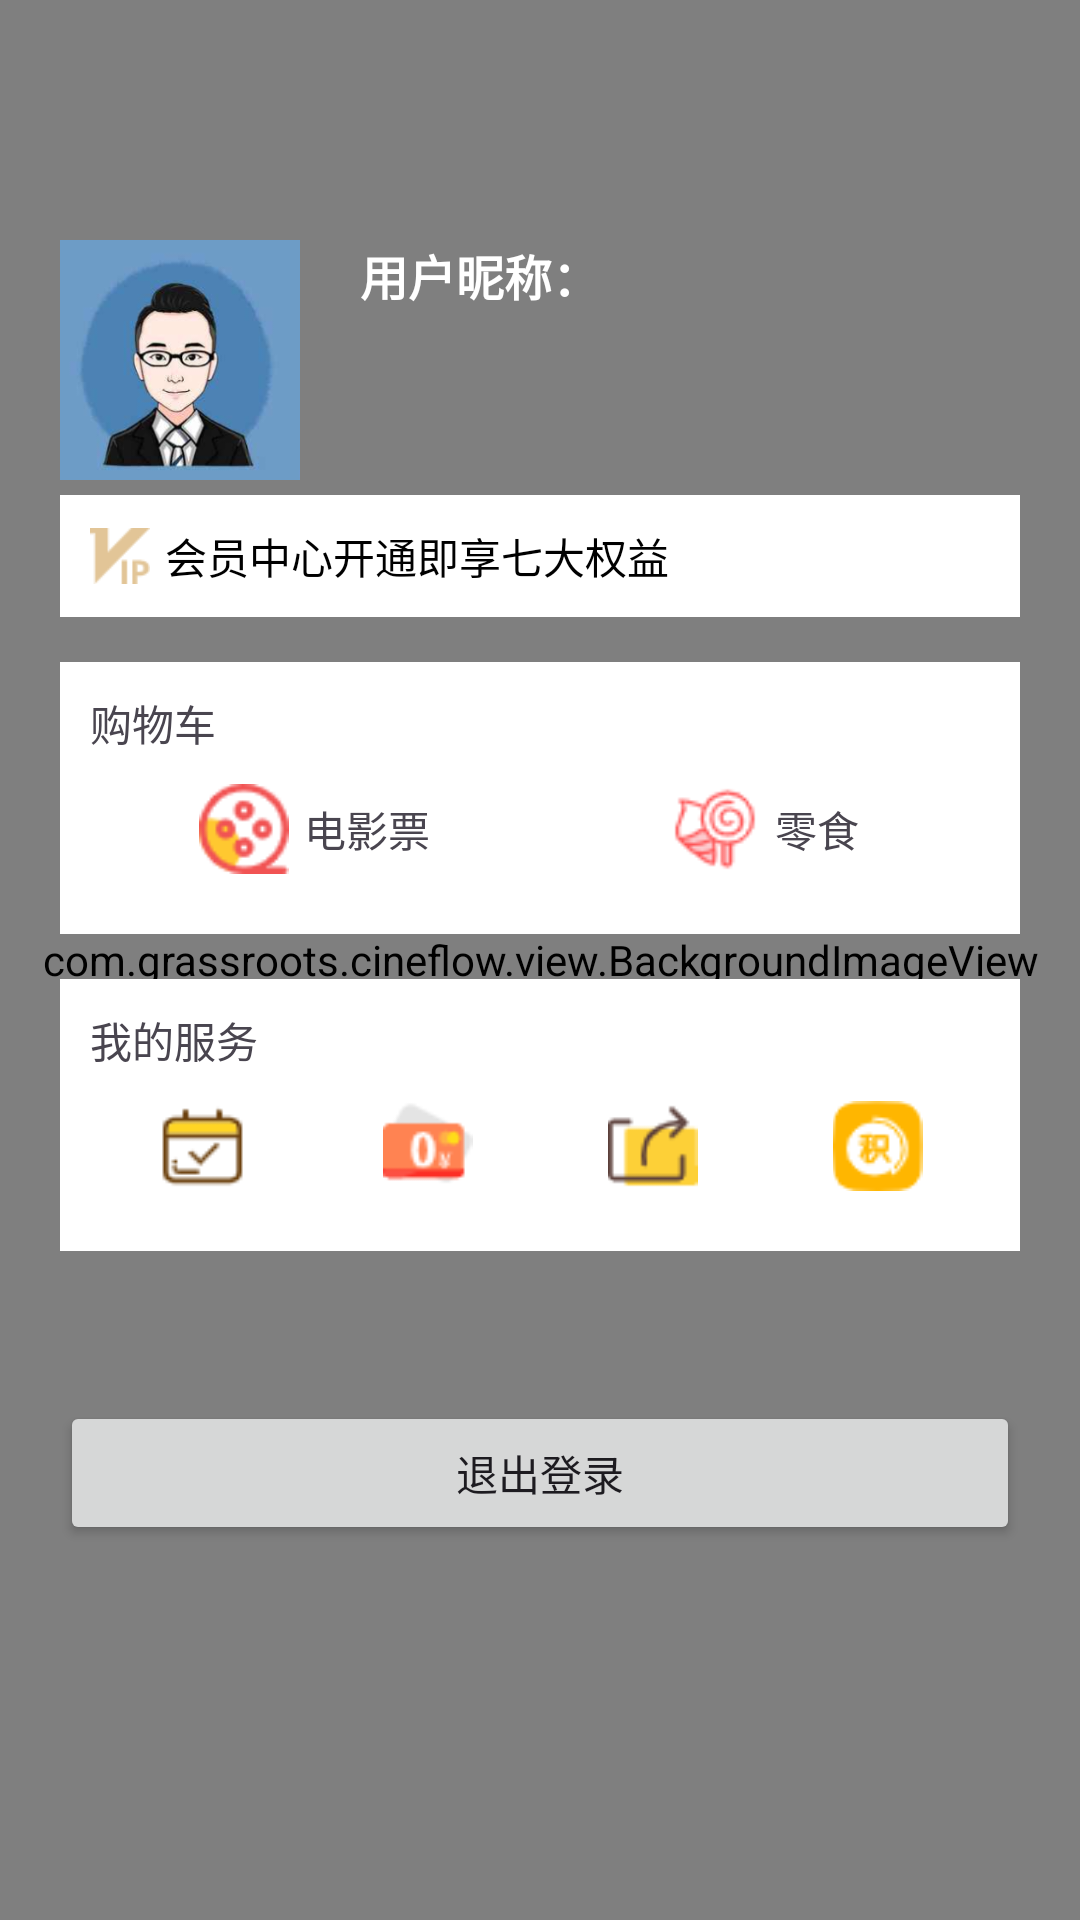

Screen size 1080w x 1920h. Icon name, then its center in pixels as [x,y]:
user: [180,360]
user movie: [244,829]
user snack: [715,829]
user vip: [120,556]
